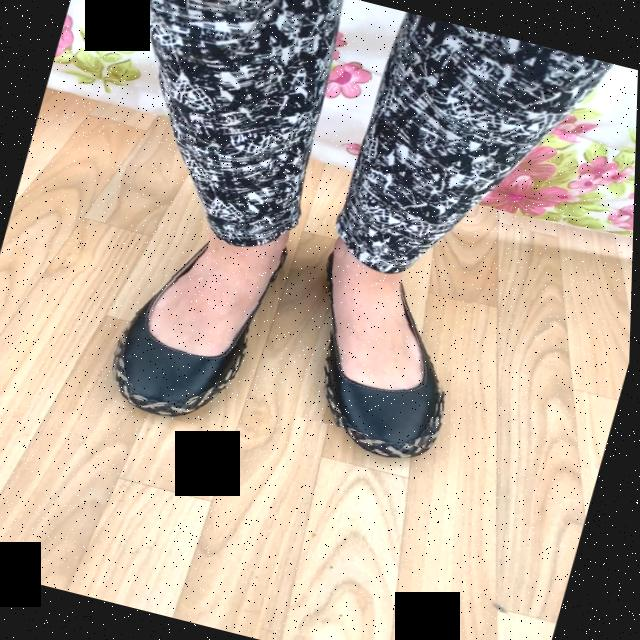shoe: (114, 235, 287, 418), (333, 267, 443, 445)
